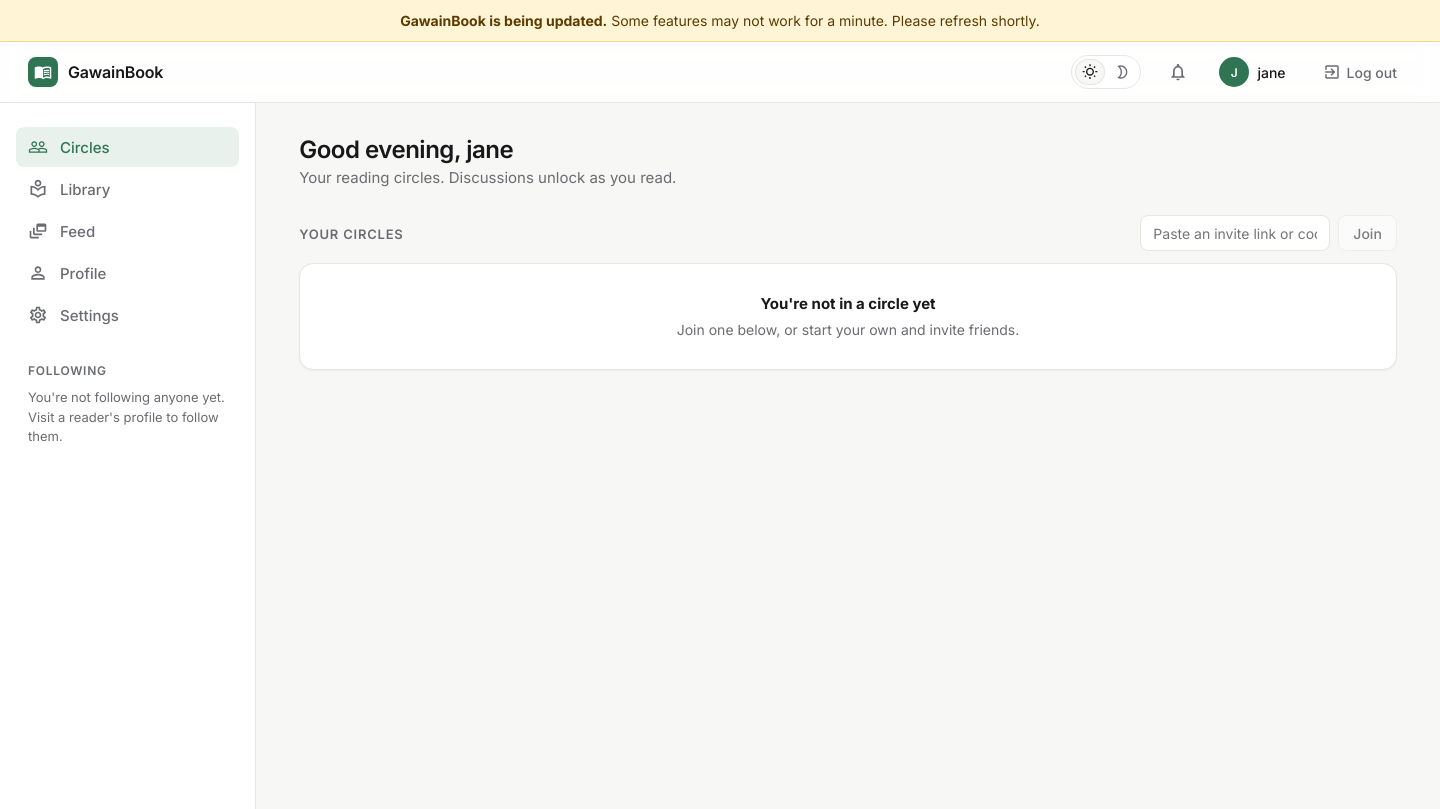
Test: signed in › log out ends the server session and returns to sign in
The width and height of the screenshot is (1440, 809).
Expected: the text "You're not in a circle yet" is shown, 760,294 -> 936,313
Click the button "Log out" at x=1360, y=72, box 1308,54 -> 1412,90
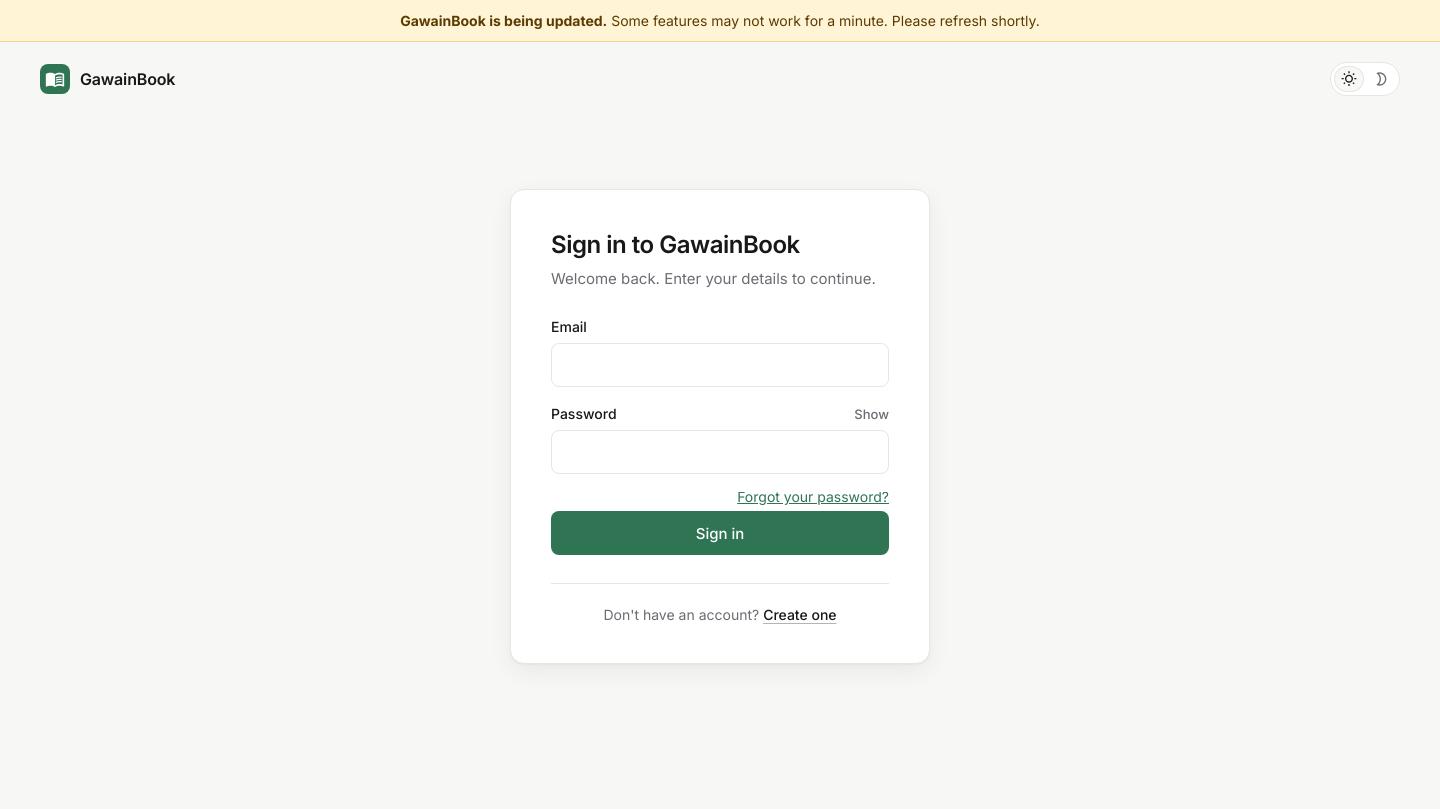
Now the heading "Sign in to GawainBook" is shown, box 551,230 -> 800,259
